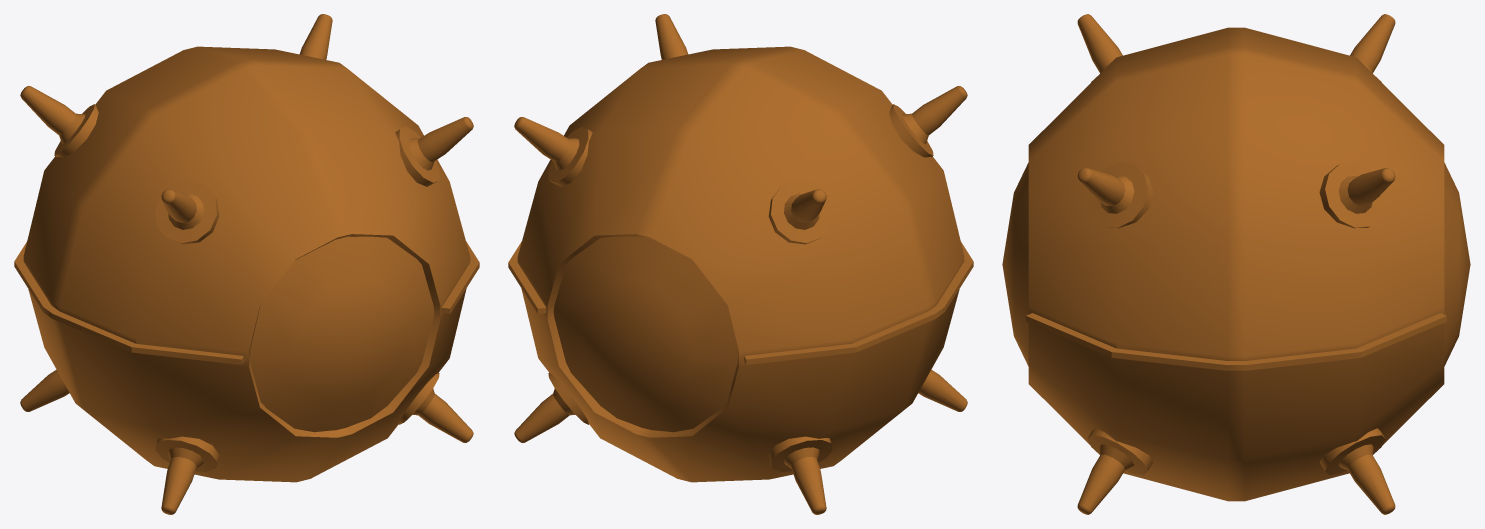
Rendered from SM_Obstacle_Bomb_Indestructible.fbx.
The picture shows the model from 3 angles, left to right: view 1: azimuth 30°, elevation 25°; view 2: azimuth 150°, elevation 25°; view 3: azimuth 270°, elevation 25°; orthographic projection. The views are drawn at different scales.
Parts seen in each view (by area): view 1: SM_Bomb_Body_low, SM_Bomb_Grate_low, SM_Bomb_Spikes_low; view 2: SM_Bomb_Body_low, SM_Bomb_Grate_low, SM_Bomb_Spikes_low; view 3: SM_Bomb_Body_low, SM_Bomb_Spikes_low, SM_Bomb_Grate_low.
Part boxes in pixels (bbox=[...]): SM_Bomb_Body_low: bbox=[14, 46, 479, 482]; SM_Bomb_Grate_low: bbox=[250, 236, 434, 432]; SM_Bomb_Spikes_low: bbox=[20, 14, 473, 514]; SM_Bomb_Body_low: bbox=[508, 46, 973, 482]; SM_Bomb_Grate_low: bbox=[553, 236, 737, 432]; SM_Bomb_Spikes_low: bbox=[514, 14, 967, 514]; SM_Bomb_Body_low: bbox=[1026, 27, 1446, 501]; SM_Bomb_Spikes_low: bbox=[1077, 14, 1395, 514]; SM_Bomb_Grate_low: bbox=[1002, 162, 1470, 366].
Size of the model in its own units: 2.04 by 1.96 by 1.95.
